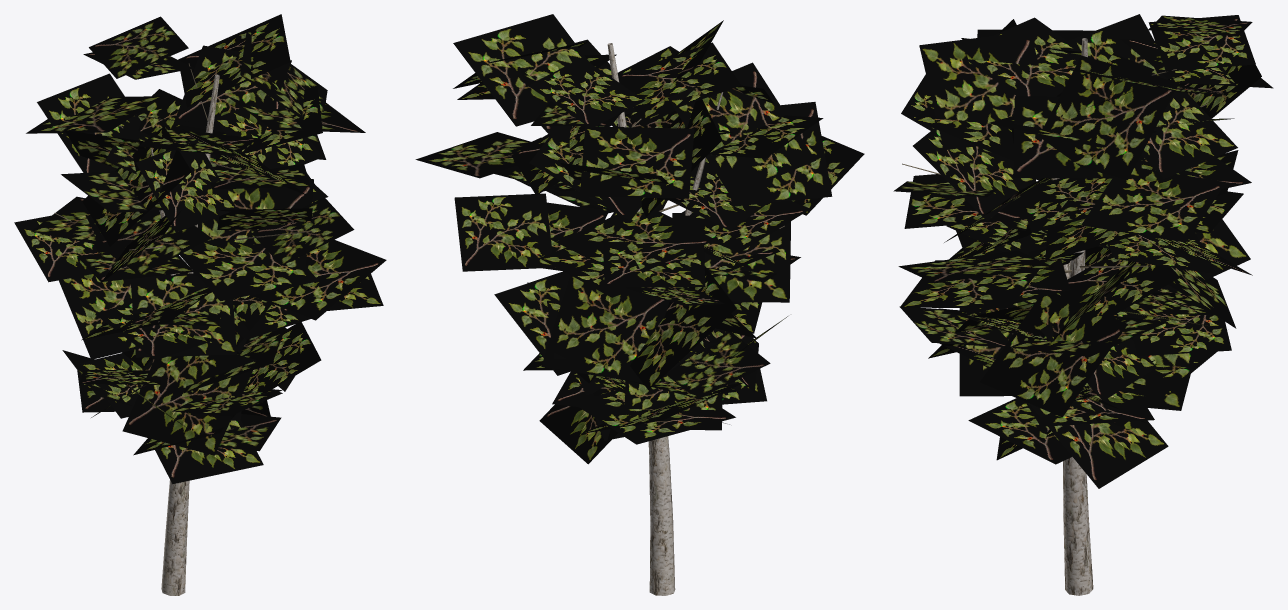
Rendered from woodland_birch_mid.gltf.
3 views of the same model, side by side, from view 1: azimuth 30°, elevation 25°; view 2: azimuth 150°, elevation 25°; view 3: azimuth 270°, elevation 25° (orthographic). The views are drawn at different scales.
Parts seen in each view (by area): view 1: WoodlandBirch; view 2: WoodlandBirch; view 3: WoodlandBirch.
Boxes of the visible parts, bbox=[...] form: WoodlandBirch: bbox=[14, 14, 386, 595]; WoodlandBirch: bbox=[415, 14, 864, 595]; WoodlandBirch: bbox=[893, 14, 1273, 595].
Size of the model in its own units: 5.13 by 8.13 by 4.79.
3 materials, 2 textured.
